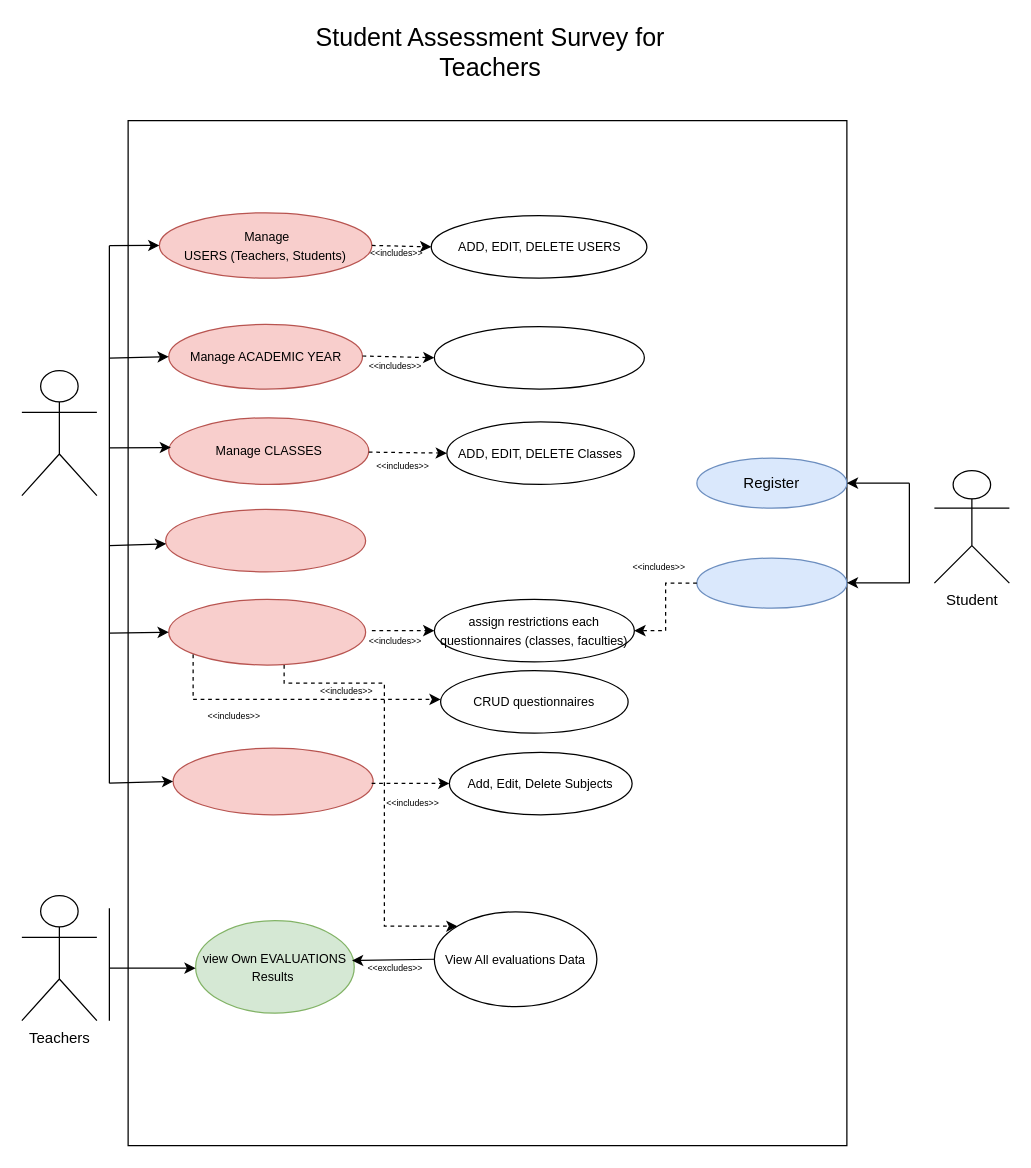
This 1031x1168 diagram has some shape labels left out. Here are the shapes that lost their labels. From the top down, the centre of each, then its label:
At point (538, 357): "ADD, UPDATE(START, PAUSE, CLOSED) survey time frame".
At point (59, 432): "Admin".
At point (265, 540): "Manage CRITERIA".
At point (771, 582): "Evaluate Teachers".
At point (267, 631): "Manage QUESTIONNAIRES/survey".
At point (272, 781): "Manage SUBJECTS".
